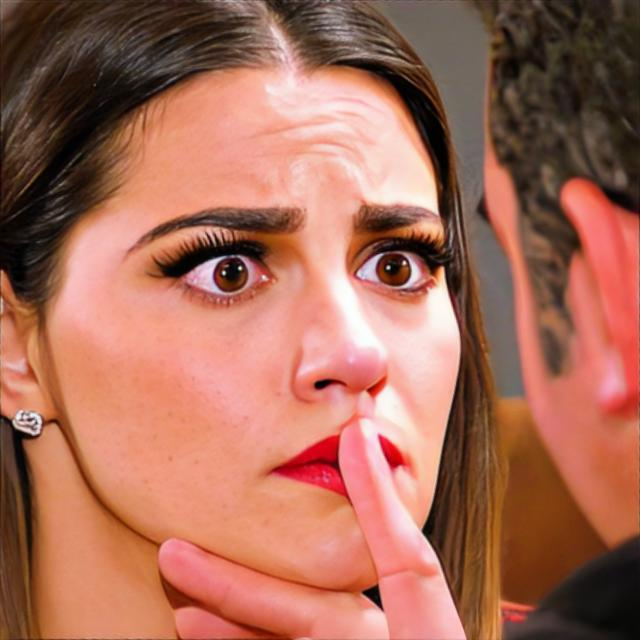Fear: (58, 58, 462, 594)
